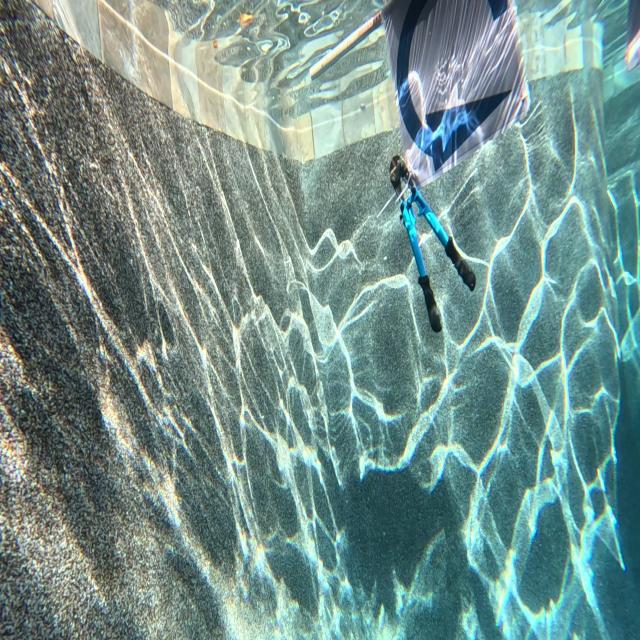blue_side: (394, 0, 513, 168)
